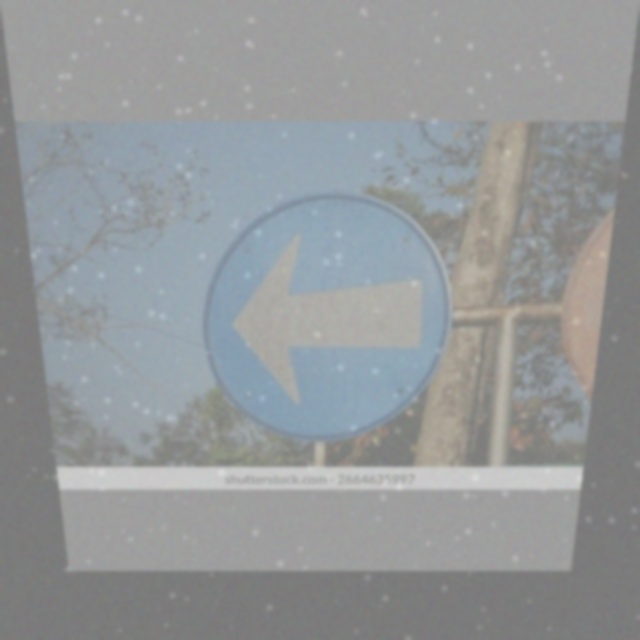Compulsory_Turn_Left: (203, 198, 458, 436)
